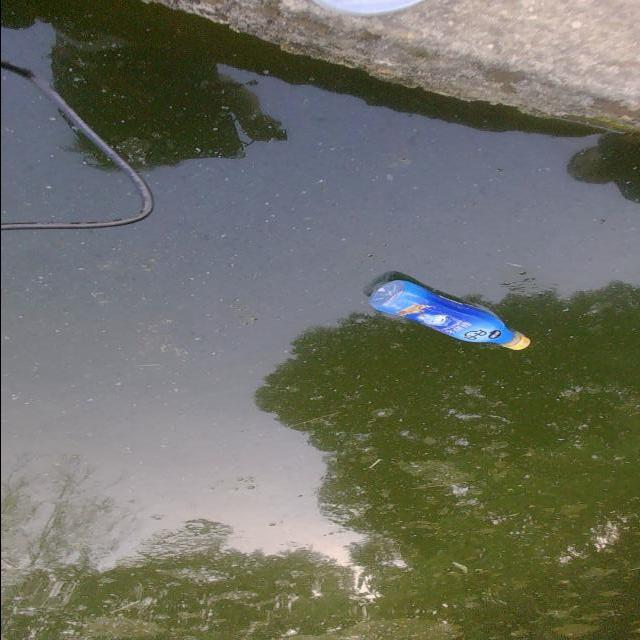bottle: (330, 250, 560, 372)
